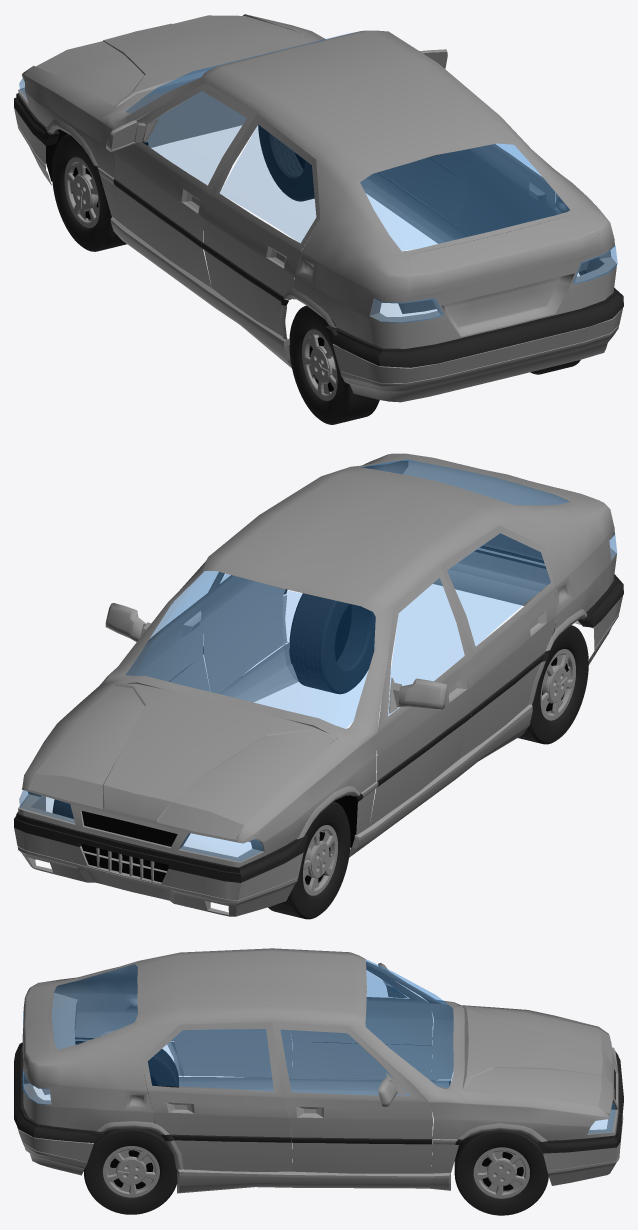
Rendered from Car.FBX.
3 renders of one model, top to bottom at view 1: azimuth 30°, elevation 25°; view 2: azimuth 150°, elevation 25°; view 3: azimuth 270°, elevation 25°, orthographic. The views are drawn at different scales.
Visible parts, largest first — view 1: Body, BackWindow, EngineCover, Door, 对象005, Plane012, BackStoreCover, 对象002, Plane011, 对象015, window, Door001 (+17 smaller); view 2: Body, EngineCover, FrontWindow, Door, 对象005, Plane007, 对象015, Cylinder018, 对象002, window, Plane006, Plane012 (+18 smaller); view 3: Body, Door001, EngineCover, 对象015, Door, FrontWindow, 对象014, window001, BackWindow, 对象005, Plane008, Cylinder014 (+19 smaller).
Part boxes in pixels (x1,y1,x2,y2): Body: (18,14,616,348); BackWindow: (360,144,569,250); EngineCover: (36,15,315,107); Door: (114,83,256,287); 对象005: (203,114,320,336); Plane012: (332,308,622,402); BackStoreCover: (408,215,600,296); 对象002: (220,125,315,242); Plane011: (325,270,623,367); 对象015: (459,144,555,236); window: (143,91,246,184); Door001: (379,148,473,228); Body: (18,453,616,867); EngineCover: (28,683,336,840); FrontWindow: (126,571,375,728); Door: (369,566,473,826); 对象005: (440,525,555,758); Plane007: (14,795,303,916); 对象015: (203,573,285,693); Cylinder018: (289,593,375,694); 对象002: (447,533,550,645); window: (388,578,464,715); Plane006: (14,811,308,882); Plane012: (433,548,622,665); Body: (22,948,618,1173); Door001: (272,1022,432,1173); EngineCover: (462,1006,612,1114); 对象015: (141,1022,292,1171); Door: (290,964,432,1079); FrontWindow: (365,959,453,1087); 对象014: (148,1029,273,1091); window001: (281,1030,409,1095); BackWindow: (52,964,137,1049); 对象005: (172,1029,292,1078); Plane008: (177,1169,450,1193); Cylinder014: (454,1130,548,1215).
Size of the model in its own units: 2018 by 1409 by 4054.
